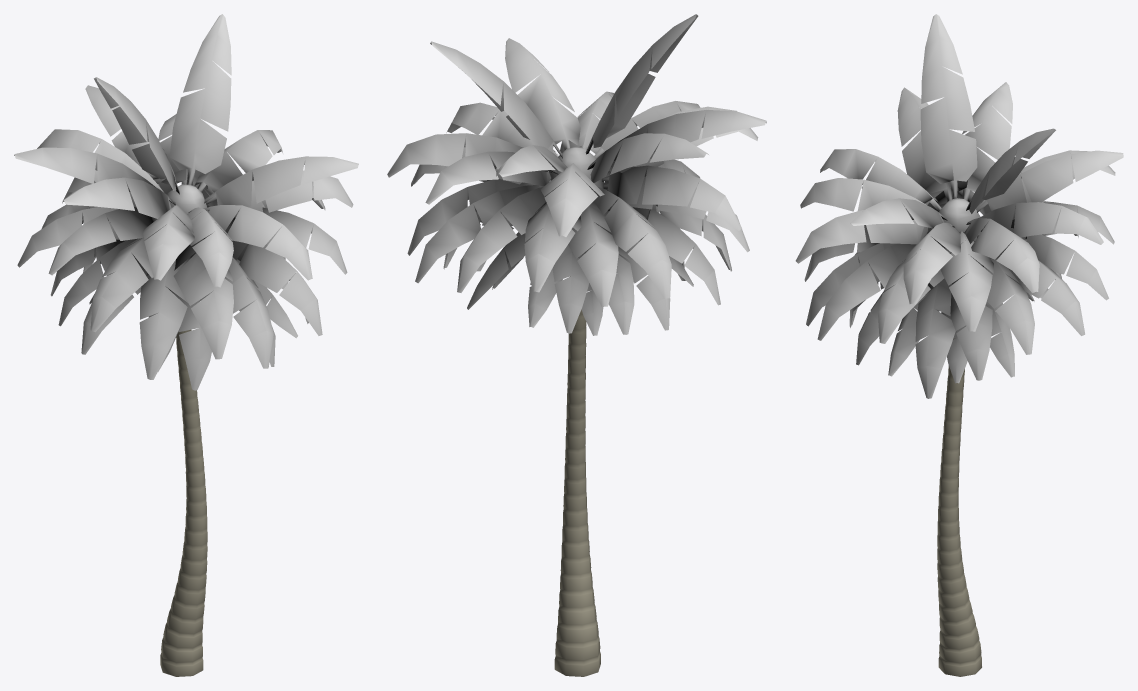
Rendered from ballpit_palmtree_c.fbx.
3 views of the same model, side by side, from view 1: azimuth 30°, elevation 25°; view 2: azimuth 150°, elevation 25°; view 3: azimuth 270°, elevation 25° (orthographic). The views are drawn at different scales.
Visible parts, largest first — view 1: Frond Root.002; view 2: Frond Root.002; view 3: Frond Root.002.
Part boxes in pixels (bbox=[...]): Frond Root.002: bbox=[14, 14, 358, 676]; Frond Root.002: bbox=[387, 14, 766, 676]; Frond Root.002: bbox=[795, 14, 1123, 676].
Bounding box in the file's own units: 865 × 1735 × 849.
